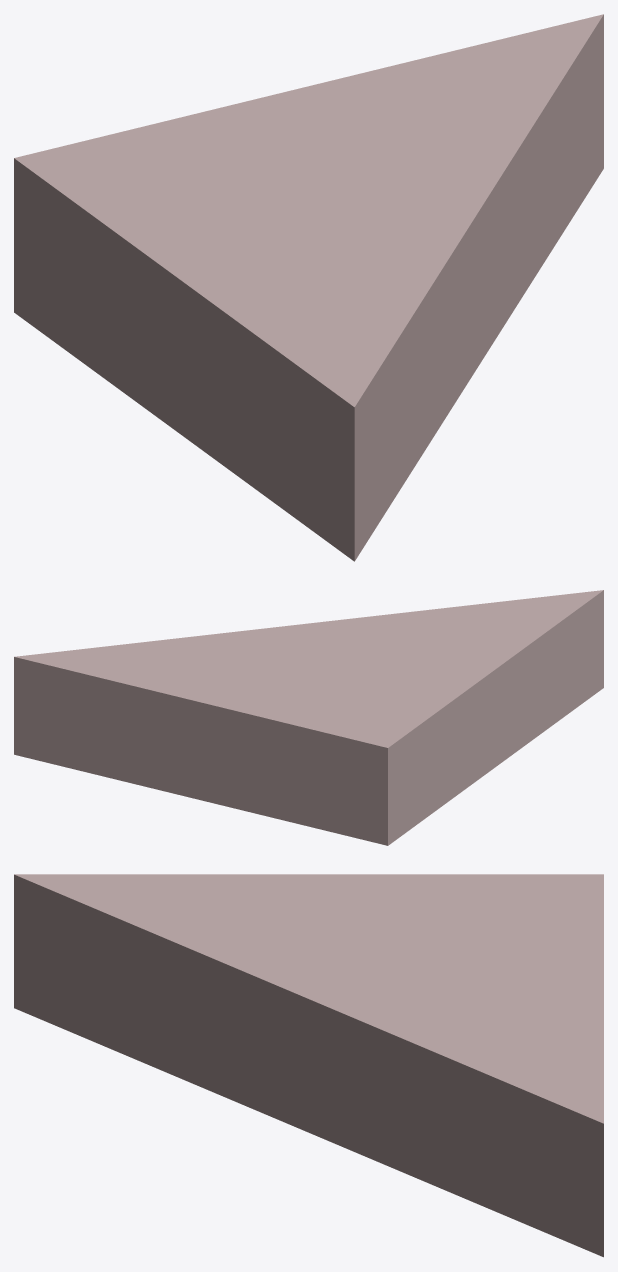
Rendered from BFloorTriS.fbx.
3 views of the same model, one above another, from view 1: azimuth 30°, elevation 25°; view 2: azimuth 150°, elevation 25°; view 3: azimuth 270°, elevation 25° (orthographic). The views are drawn at different scales.
Parts seen in each view (by area): view 1: BFloorTriS; view 2: BFloorTriS; view 3: BFloorTriS.
Part boxes in pixels (box(x1,y1,x2,y2)): BFloorTriS: box(14, 14, 603, 561); BFloorTriS: box(14, 590, 603, 845); BFloorTriS: box(14, 874, 603, 1257).
Size of the model in its own units: 200 by 50 by 200.
